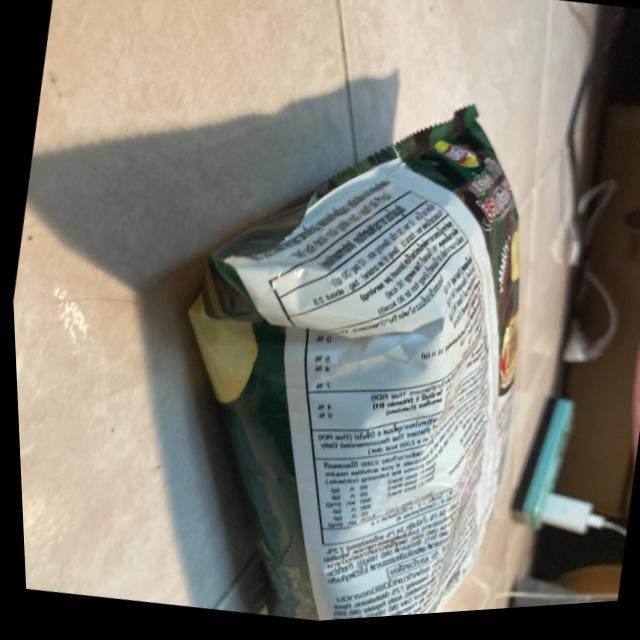Laygreen: (115, 70, 572, 634)
